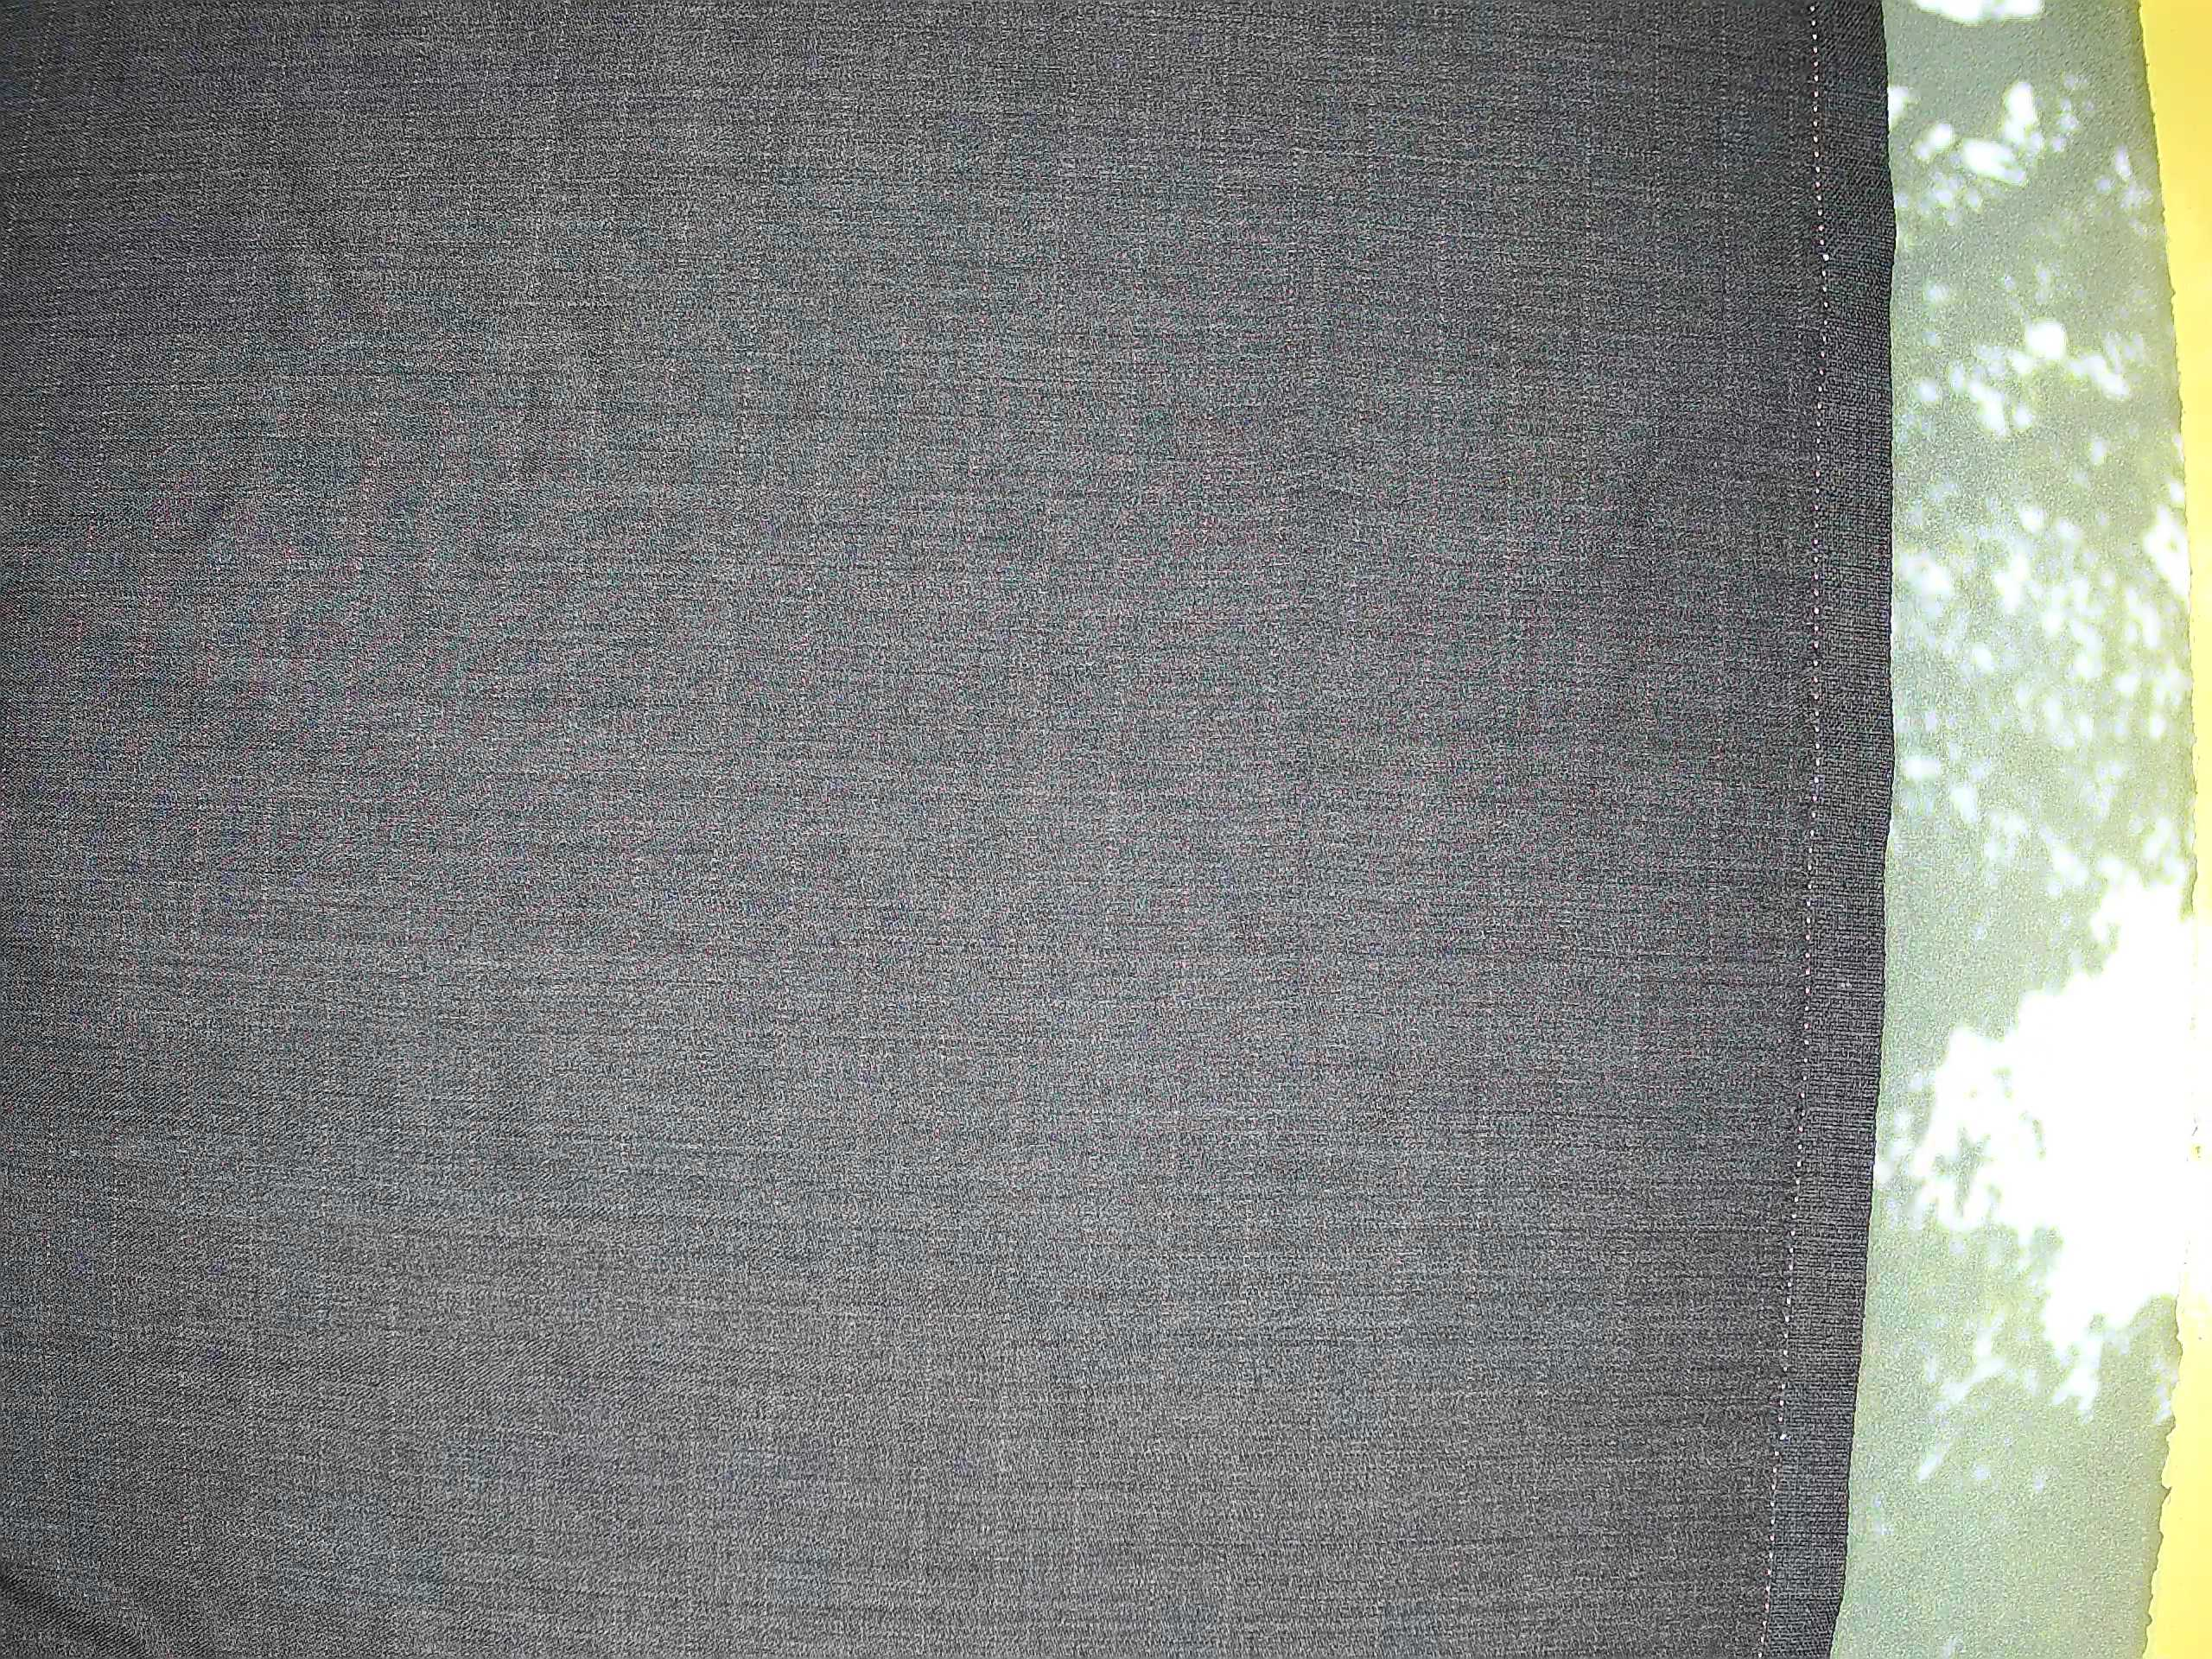hanging-warp: (853, 434, 1820, 584)
